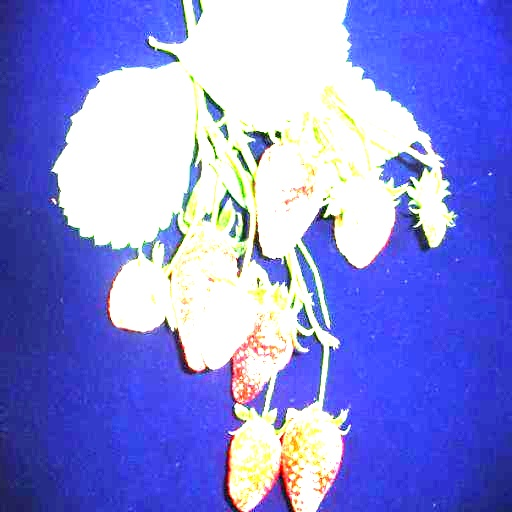Powdery Mildew Fruit: (169, 232, 237, 372), (254, 136, 329, 259), (231, 296, 295, 405), (281, 408, 343, 511), (228, 416, 281, 511), (200, 280, 255, 370)
